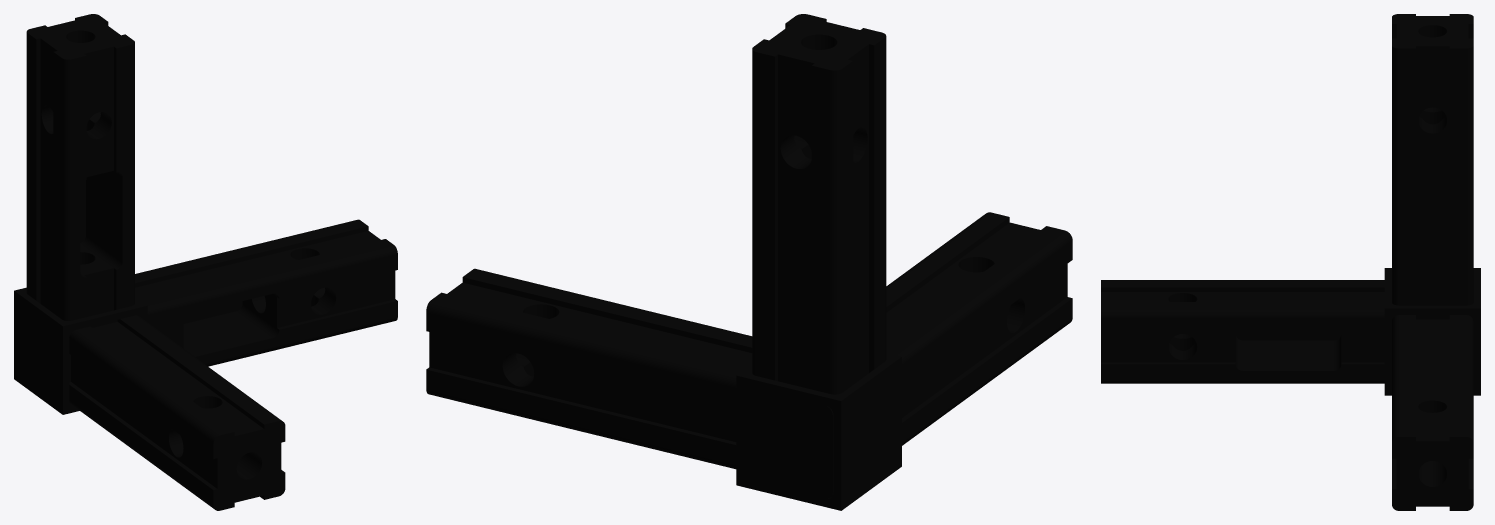
The model's file is 3_Fingers_90_test.glb.
The picture shows the model from 3 angles, left to right: view 1: azimuth 30°, elevation 25°; view 2: azimuth 150°, elevation 25°; view 3: azimuth 270°, elevation 25°; orthographic projection. The views are drawn at different scales.
Parts seen in each view (by area): view 1: Finger, Finger.001, Finger.002, Cube, Zaglushka_cube.001; view 2: Finger, Finger.001, Finger.002, Zaglushka_cube, Cube, Zaglushka_cube.001; view 3: Finger.002, Finger, Finger.001, Cube.
Boxes of the visible parts, x1,y1,x2,y2 form: Finger: (26, 14, 134, 320); Finger.001: (135, 219, 397, 366); Finger.002: (69, 315, 285, 510); Cube: (14, 287, 147, 414); Zaglushka_cube.001: (17, 302, 59, 403); Finger: (752, 14, 886, 394); Finger.001: (426, 268, 752, 469); Finger.002: (886, 212, 1072, 445); Zaglushka_cube: (743, 387, 833, 498); Cube: (736, 353, 901, 510); Zaglushka_cube.001: (846, 371, 897, 496); Finger.002: (1101, 280, 1384, 383); Finger: (1392, 14, 1473, 305); Finger.001: (1392, 315, 1473, 510); Cube: (1384, 268, 1480, 395).
Bounding box in the file's own units: 0.08 × 0.079 × 0.079.
Materials: 7 (7 with a texture image).
